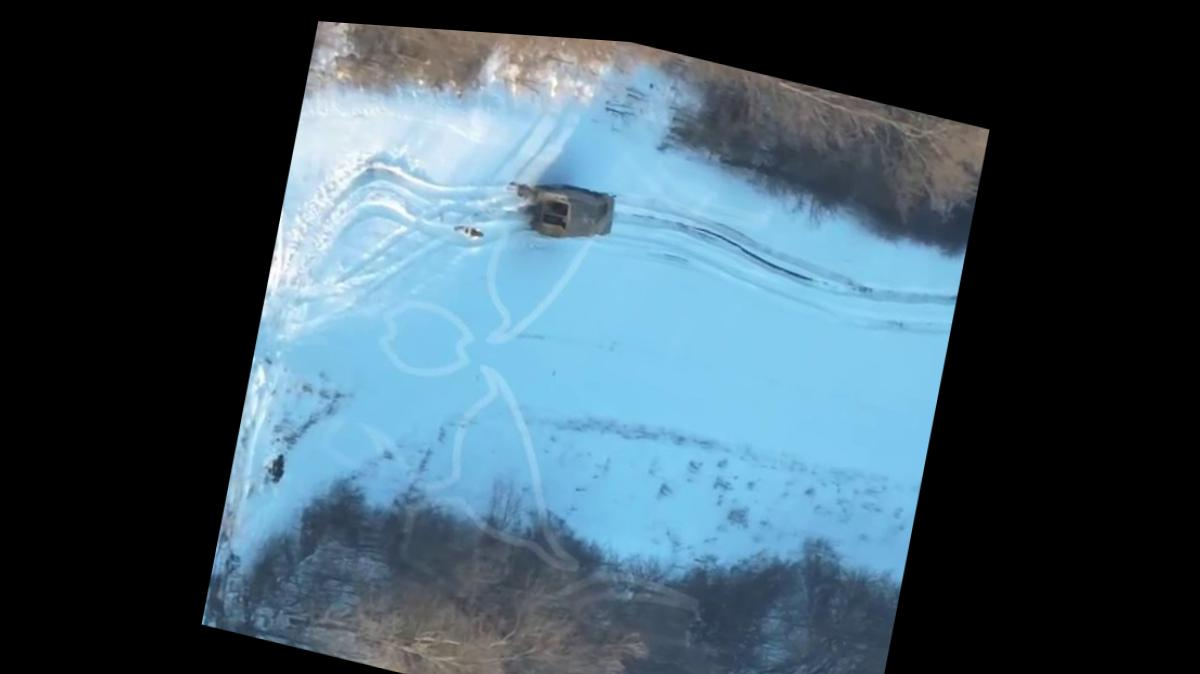person: (503, 179, 537, 202), (451, 221, 487, 242)
truck: (521, 173, 618, 253)
